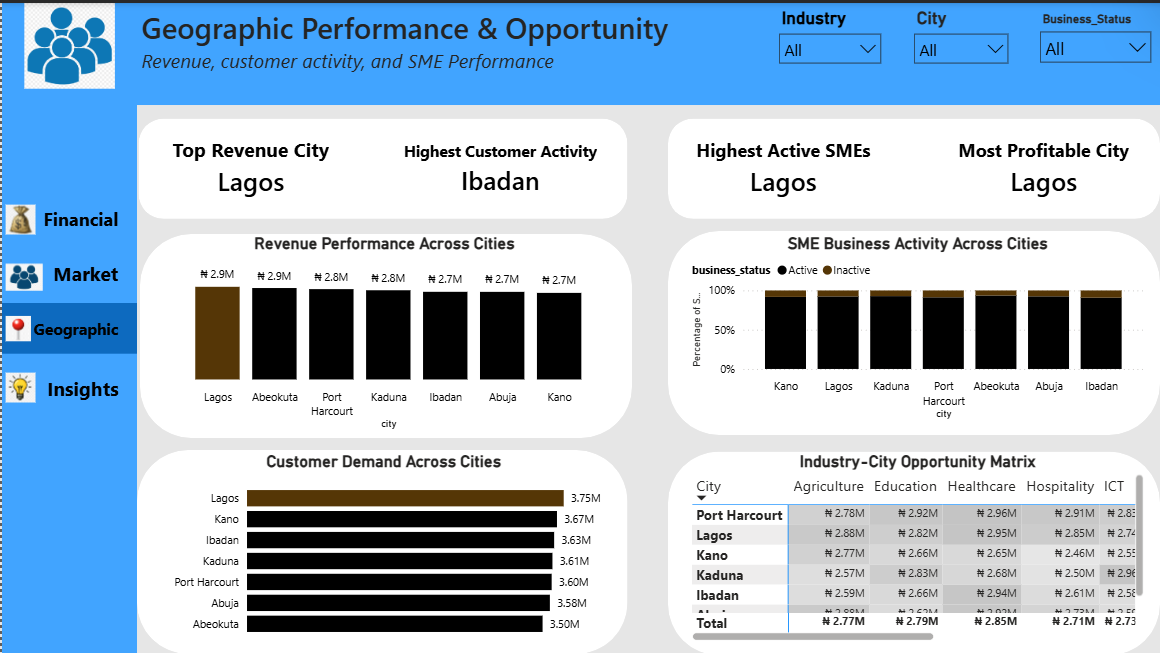

What the dashboard file says about the page in this screenshot:
{"tool":"powerbi","page":{"name":"Geographic Opportunity ","canvas":[1280,720],"ordinal":2},"visuals":[{"type":"group","id":"g1","title":"Charts","box":[149.7,127,1130.3,593],"z":0},{"type":"columnChart","title":"Revenue Performance Across Cities","fields":{"Category":["Nigeria_SME_Dataset.city"],"Y":["Avg(Nigeria_SME_Dataset.monthly_profit_ngn)"]},"box":[173.5,255.1,496.9,220.3],"z":1000},{"type":"clusteredBarChart","title":"Customer Demand Across Cities","fields":{"Category":["Nigeria_SME_Dataset.city"],"Y":["Sum(Nigeria_SME_Dataset.customers_per_month)"]},"box":[177.7,495.3,488.7,213.7],"z":2000},{"type":"hundredPercentStackedColumnChart","title":"SME Business Activity Across Cities","fields":{"Category":["Nigeria_SME_Dataset.city"],"Y":["CountNonNull(Nigeria_SME_Dataset.business_id)"],"Series":["Nigeria_SME_Dataset.business_status"]},"box":[757,255.1,508.5,208.7],"z":3000},{"type":"pivotTable","title":"Industry-City Opportunity Matrix","fields":{"Rows":["Nigeria_SME_Dataset.city"],"Columns":["Nigeria_SME_Dataset.industry"],"Values":["Avg(Nigeria_SME_Dataset.monthly_profit_ngn)"]},"box":[757,495.3,508.5,213.7],"z":4000},{"type":"shape","title":"NIGERIA SME INVESTMENT DASHBOARD","box":[0,0,149.1,720.6],"z":5000},{"type":"cardVisual","title":"Total Number of SME''s","fields":{"Data":["Nigeria_SME_Dataset.Top Revenue City"]},"box":[152.4,129.2,245.2,104.4],"z":6000},{"type":"cardVisual","title":"Total Number of SME''s","fields":{"Data":["Nigeria_SME_Dataset.Top Customer Activity City"]},"box":[405.8,130.9,289.9,104.4],"z":7000},{"type":"cardVisual","title":"Total Number of SME''s","fields":{"Data":["Nigeria_SME_Dataset.Top Active SMEs City"]},"box":[733.3,129.3,258.4,104.4],"z":8000},{"type":"cardVisual","title":"Total Number of SME''s","fields":{"Data":["Nigeria_SME_Dataset.Top Profit City"]},"box":[1019.9,129.3,260.1,104.4],"z":9000},{"type":"textbox","box":[149.1,0,1131.4,112.6],"z":10000},{"type":"actionButton","box":[0.6,218.7,132.5,39.8],"z":11000},{"type":"shape","box":[0,331.3,149.1,56.3],"z":12000},{"type":"actionButton","box":[0.6,278.3,132.5,39.8],"z":13000},{"type":"shape","box":[152.5,255.3,543.3,225.3],"z":14000,"group":"g1"},{"type":"actionButton","box":[0.6,339.6,132.5,39.8],"z":14000},{"type":"image","box":[0,0,149.1,94.4],"z":15000},{"type":"shape","box":[736.2,251.2,543.3,225.3],"z":15000,"group":"g1"},{"type":"slicer","fields":{"Values":["Nigeria_SME_Dataset.industry"]},"box":[848.1,0,132.5,112.6],"z":16000},{"type":"shape","box":[149.7,493.8,541.7,225.3],"z":16000,"group":"g1"},{"type":"slicer","fields":{"Values":["Nigeria_SME_Dataset.city"]},"box":[996.4,0,124.2,112.6],"z":17000},{"type":"shape","box":[736.2,494.7,543.3,225.3],"z":17000,"group":"g1"},{"type":"shape","box":[151.6,127.7,540,111],"z":17500,"group":"g1"},{"type":"slicer","fields":{"Values":["Nigeria_SME_Dataset.business_status"]},"box":[1136.3,5,142.5,82.8],"z":18000},{"type":"shape","box":[736.7,127,543.3,111],"z":18000,"group":"g1"},{"type":"actionButton","box":[0.3,404.4,132.9,40.4],"z":19000}]}

Visuals, with their boxes on the page's 1280x720 design canvas (x1, y1, x2, y2). These are canvas units, not pixel positions in the 1160x653 screenshot, which may show the page scaled, cropped or inside an application window:
"Charts" group: select_region(150, 127, 1280, 720)
"Revenue Performance Across Cities" columnChart: select_region(174, 255, 670, 475)
"Customer Demand Across Cities" clusteredBarChart: select_region(178, 495, 666, 709)
"SME Business Activity Across Cities" hundredPercentStackedColumnChart: select_region(757, 255, 1266, 464)
"Industry-City Opportunity Matrix" pivotTable: select_region(757, 495, 1266, 709)
"NIGERIA SME INVESTMENT DASHBOARD" shape: select_region(0, 0, 149, 721)
"Total Number of SME''s" cardVisual: select_region(152, 129, 398, 234)
"Total Number of SME''s" cardVisual: select_region(406, 131, 696, 235)
"Total Number of SME''s" cardVisual: select_region(733, 129, 992, 234)
"Total Number of SME''s" cardVisual: select_region(1020, 129, 1280, 234)
textbox: select_region(149, 0, 1280, 113)
actionButton: select_region(1, 219, 133, 258)
shape: select_region(0, 331, 149, 388)
actionButton: select_region(1, 278, 133, 318)
shape: select_region(152, 255, 696, 481)
actionButton: select_region(1, 340, 133, 379)
image: select_region(0, 0, 149, 94)
shape: select_region(736, 251, 1280, 476)
slicer - Nigeria_SME_Dataset.industry: select_region(848, 0, 981, 113)
shape: select_region(150, 494, 691, 719)
slicer - Nigeria_SME_Dataset.city: select_region(996, 0, 1121, 113)
shape: select_region(736, 495, 1280, 720)
shape: select_region(152, 128, 692, 239)
slicer - Nigeria_SME_Dataset.business_status: select_region(1136, 5, 1279, 88)
shape: select_region(737, 127, 1280, 238)
actionButton: select_region(0, 404, 133, 445)
